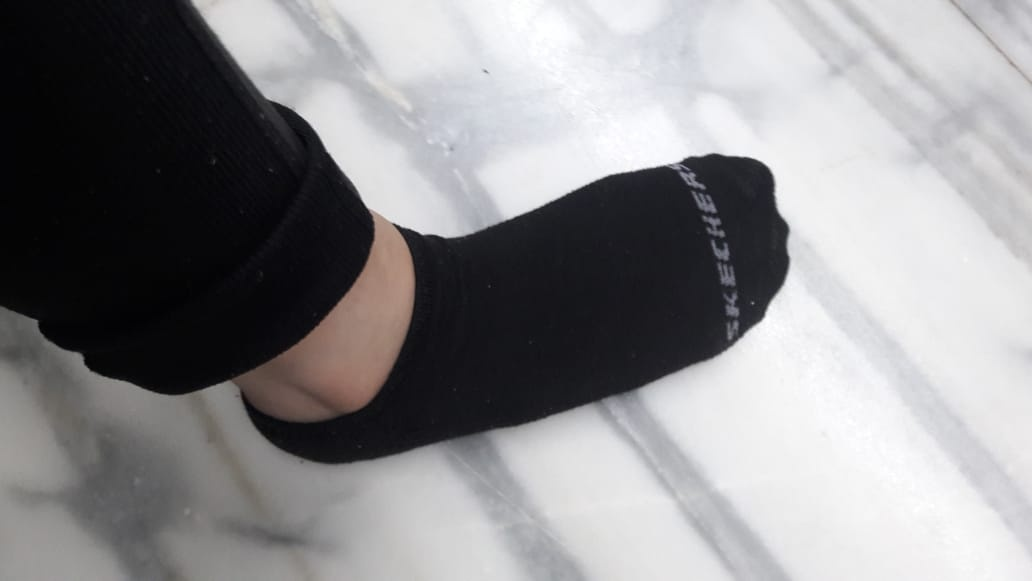feet: (205, 143, 794, 466)
